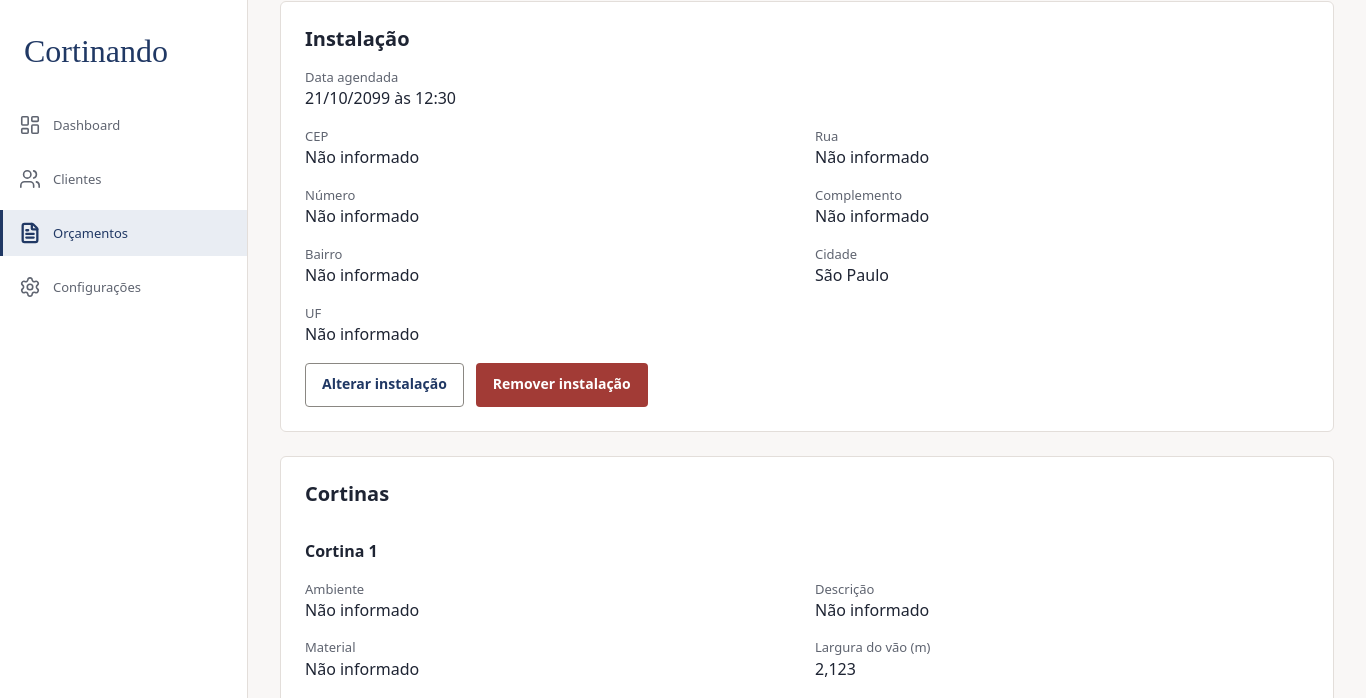
Test: removal requires confirmation and refetches the detail after 204
(page scrolled)
Click the button "Remover instalação". click: (562, 385)
box: [476, 363, 648, 407]
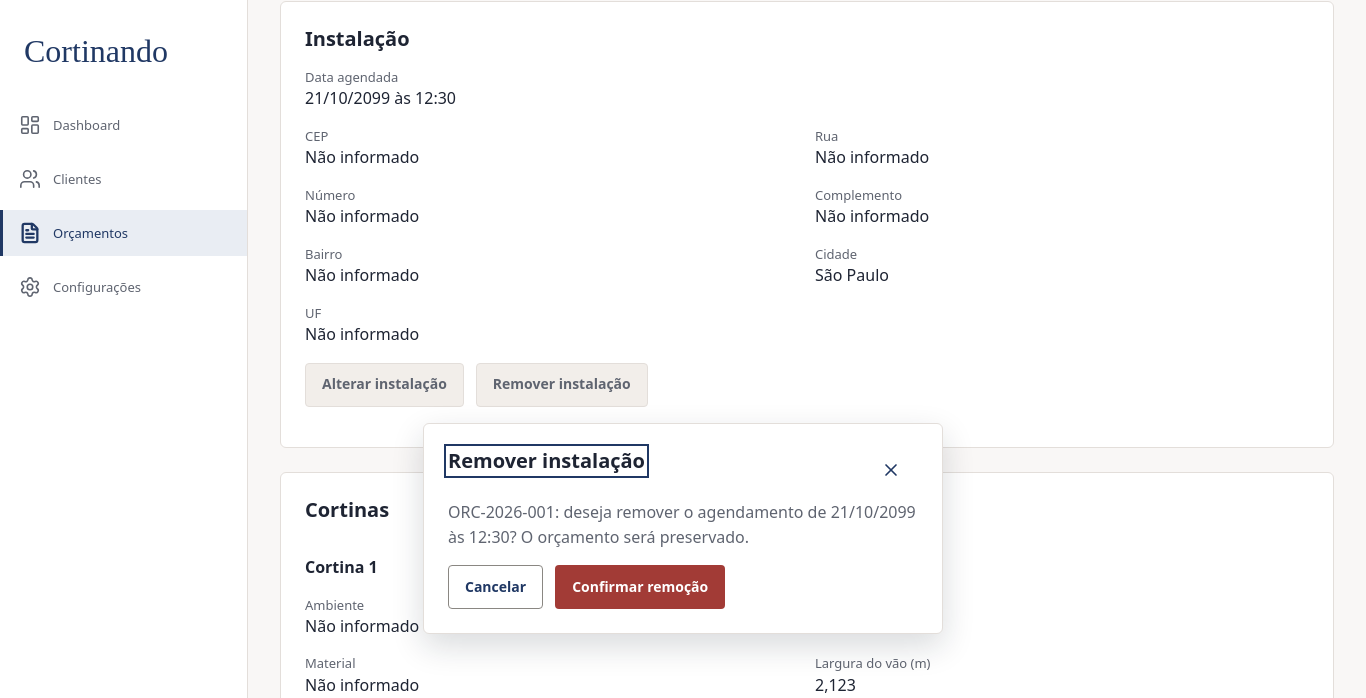
Click the button "Cancelar". click: (496, 587)
box: [448, 565, 543, 609]
(page scrolled)
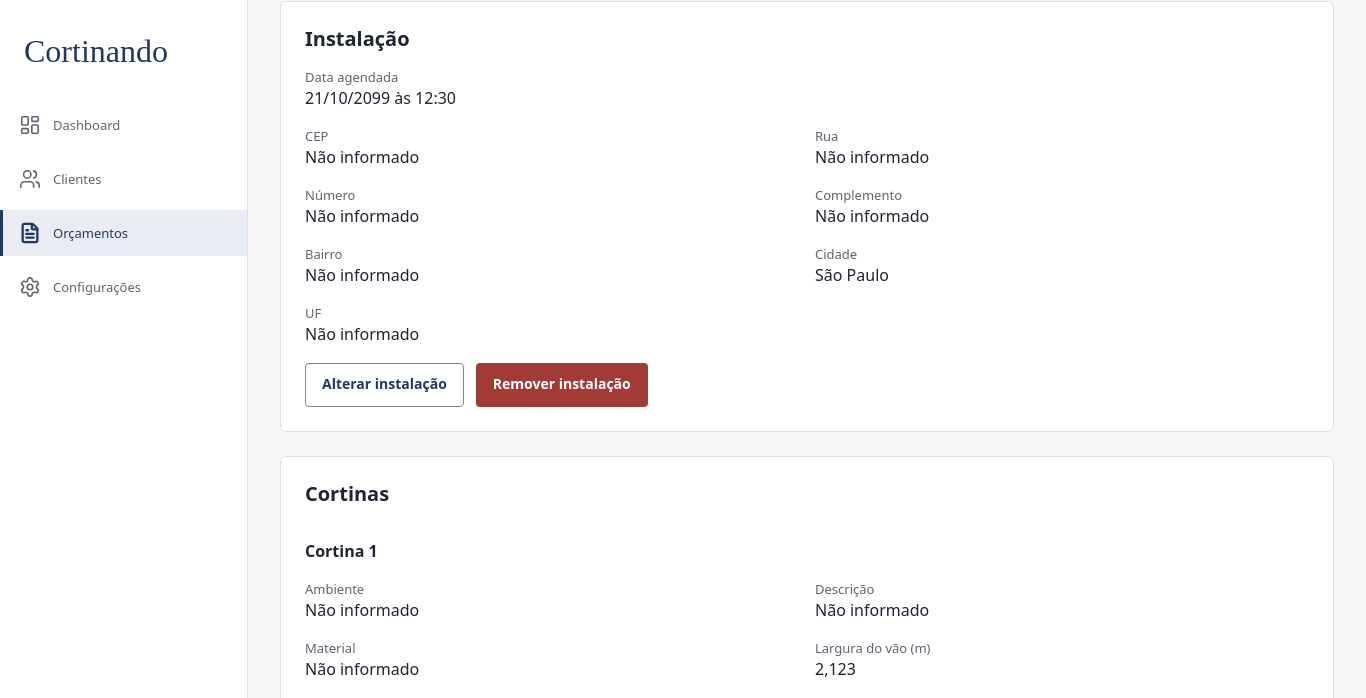
Click the button "Remover instalação". click: (562, 385)
box: [476, 363, 648, 407]
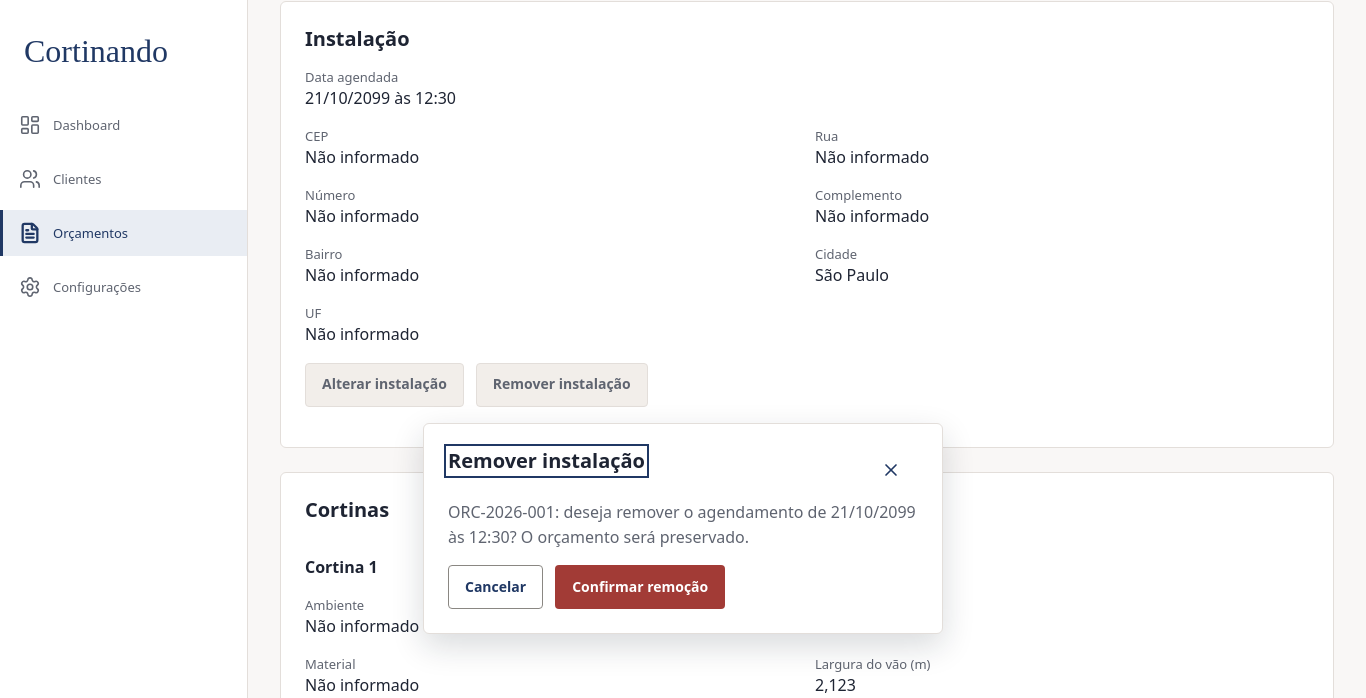
Click the button "Confirmar remoção". click: (640, 588)
box: [555, 566, 725, 610]
(page scrolled)
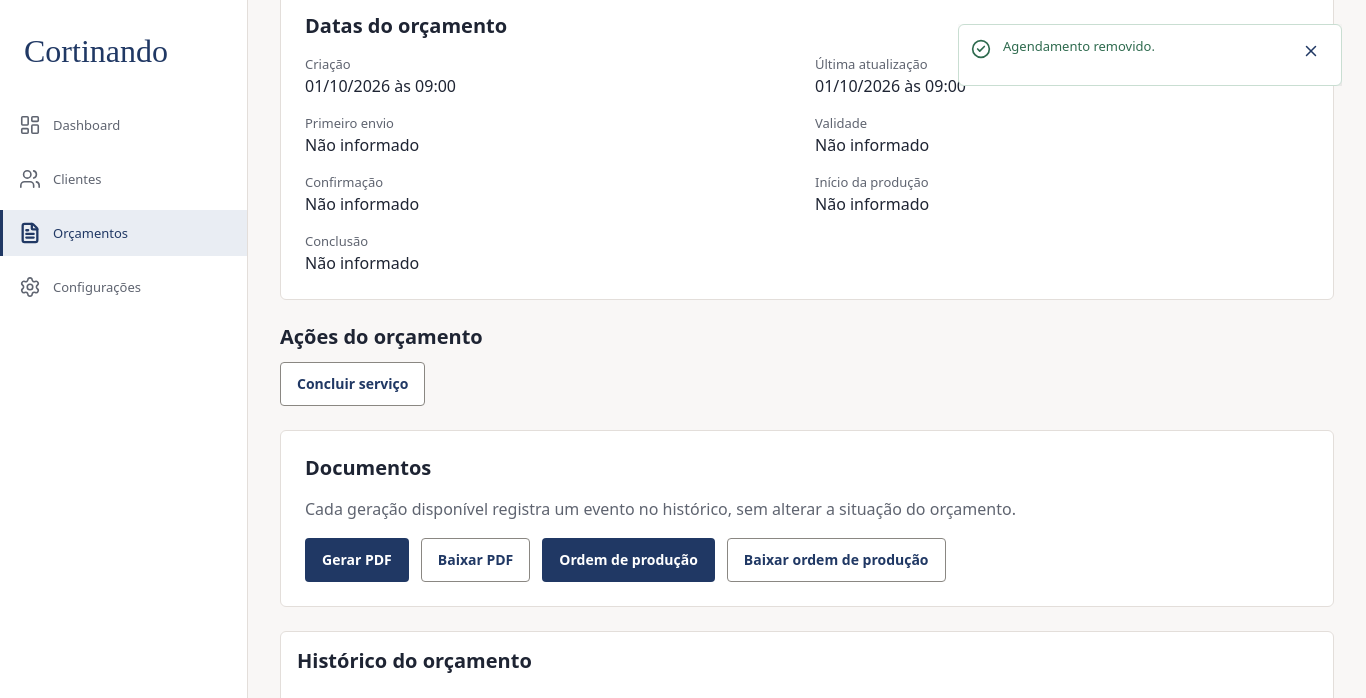
expect the dialog is gone: met
expect the button "Concluir serviço" is enabled: met, box [280, 362, 425, 406]
